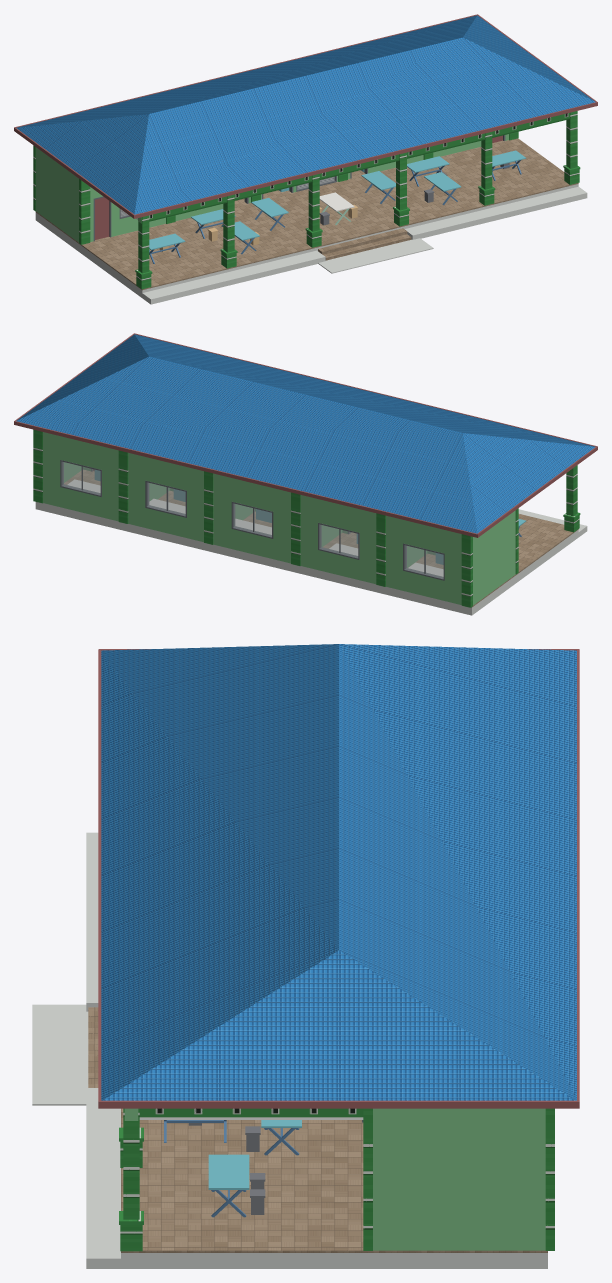
Rendered from gedung_kantin.glb.
3 views of the same model, one above another, from view 1: azimuth 30°, elevation 25°; view 2: azimuth 150°, elevation 25°; view 3: azimuth 270°, elevation 25° (orthographic). The views are drawn at different scales.
Parts seen in each view (by area): view 1: Atap_Genteng_Biru, Lantai_Keramik_Coklat_Kantin, Apron_Beton_Dan_Pot, Tiang_Hijau_GarisPutih, Dinding_Hijau_Kantin, Pintu_Dan_Lisplang_Marun, Meja_Top_BiruTeal, Lis_Ventilasi_Kantin, Kaki_Meja_Silang_BiruTua, Kusen_Dan_Etalase, Meja_Top_KremPutih; view 2: Atap_Genteng_Biru, Dinding_Hijau_Kantin, Tiang_Hijau_GarisPutih, Apron_Beton_Dan_Pot, Kaca_Kios_Transparan, Pintu_Dan_Lisplang_Marun, Lantai_Keramik_Coklat_Kantin, Kusen_Dan_Etalase, Meja_Top_KremPutih, Meja_Top_BiruTeal; view 3: Atap_Genteng_Biru, Lantai_Keramik_Coklat_Kantin, Dinding_Hijau_Kantin, Apron_Beton_Dan_Pot, Pintu_Dan_Lisplang_Marun, Tiang_Hijau_GarisPutih, Lis_Ventilasi_Kantin, Meja_Top_BiruTeal, Bangku_Plastik_Hitam, Kaki_Meja_Silang_BiruTua.
Boxes of the visible parts, box(x1,y1,x2,y2) form: Atap_Genteng_Biru: box(16, 15, 595, 214); Lantai_Keramik_Coklat_Kantin: box(36, 138, 578, 290); Apron_Beton_Dan_Pot: box(35, 184, 587, 304); Tiang_Hijau_GarisPutih: box(33, 111, 580, 289); Dinding_Hijau_Kantin: box(36, 134, 508, 242); Pintu_Dan_Lisplang_Marun: box(14, 14, 597, 239); Meja_Top_BiruTeal: box(149, 150, 526, 249); Lis_Ventilasi_Kantin: box(137, 113, 569, 223); Kaki_Meja_Silang_BiruTua: box(149, 160, 521, 263); Kusen_Dan_Etalase: box(93, 135, 505, 241); Meja_Top_KremPutih: box(319, 192, 354, 211); Atap_Genteng_Biru: box(16, 334, 595, 533); Dinding_Hijau_Kantin: box(43, 432, 515, 605); Tiang_Hijau_GarisPutih: box(33, 429, 580, 607); Apron_Beton_Dan_Pot: box(35, 502, 587, 615); Kaca_Kios_Transparan: box(62, 462, 443, 577); Pintu_Dan_Lisplang_Marun: box(14, 333, 597, 537); Lantai_Keramik_Coklat_Kantin: box(64, 469, 578, 607); Kusen_Dan_Etalase: box(60, 460, 444, 580); Meja_Top_KremPutih: box(67, 479, 443, 576); Meja_Top_BiruTeal: box(94, 470, 526, 564); Atap_Genteng_Biru: box(101, 644, 576, 1100); Lantai_Keramik_Coklat_Kantin: box(88, 1007, 547, 1252); Dinding_Hijau_Kantin: box(124, 1108, 545, 1250); Apron_Beton_Dan_Pot: box(32, 832, 547, 1268); Pintu_Dan_Lisplang_Marun: box(98, 649, 579, 1108); Tiang_Hijau_GarisPutih: box(119, 1108, 554, 1251); Lis_Ventilasi_Kantin: box(139, 1108, 363, 1117); Meja_Top_BiruTeal: box(208, 1120, 301, 1189); Bangku_Plastik_Hitam: box(188, 1123, 265, 1214); Kaki_Meja_Silang_BiruTua: box(164, 1120, 299, 1217).
Size of the model in its own units: 22.32 by 5.95 by 11.41.
19 materials, 6 textured.
